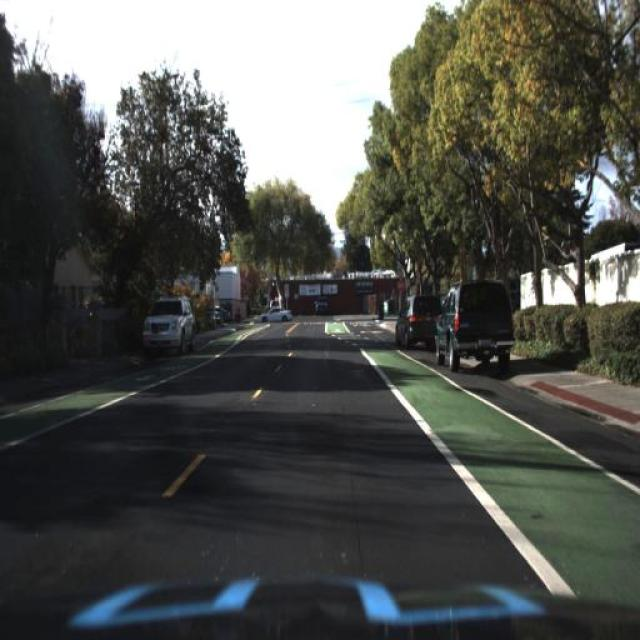car: (434, 273, 520, 373), (140, 292, 194, 353), (391, 292, 433, 350), (254, 304, 295, 326), (258, 302, 294, 326), (310, 292, 331, 316)
